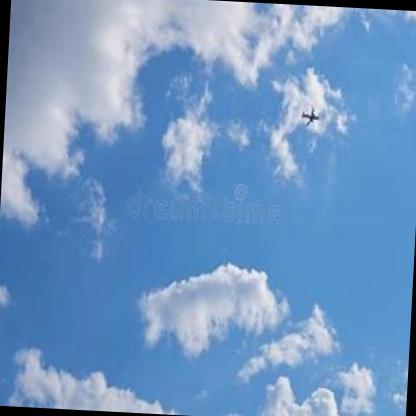plane: (298, 100, 328, 132)
